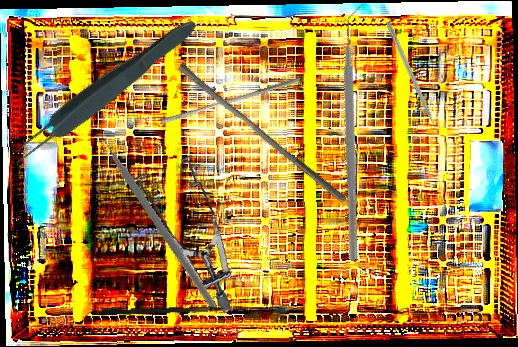Chopper: (237, 3, 479, 262), (48, 114, 271, 311), (380, 21, 441, 140)
Hook Surgical: (101, 299, 257, 318)
Pusher: (171, 61, 354, 205), (160, 71, 301, 130)
Speculum: (114, 147, 255, 313)
Tissue Forceps: (1, 10, 204, 173)
